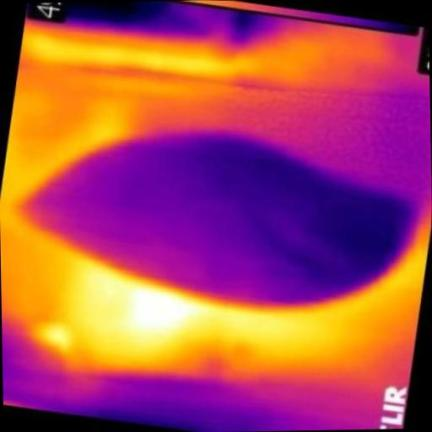mango: (24, 135, 412, 305)
